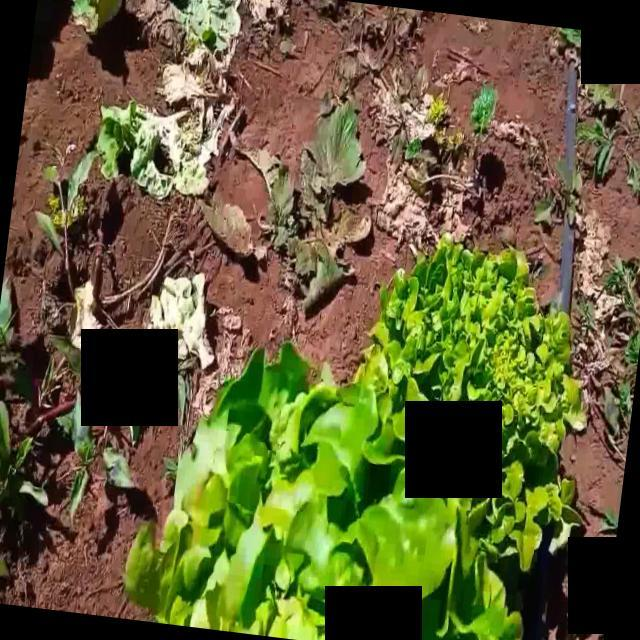Lettuce: (142, 350, 526, 640), (357, 225, 592, 482)
